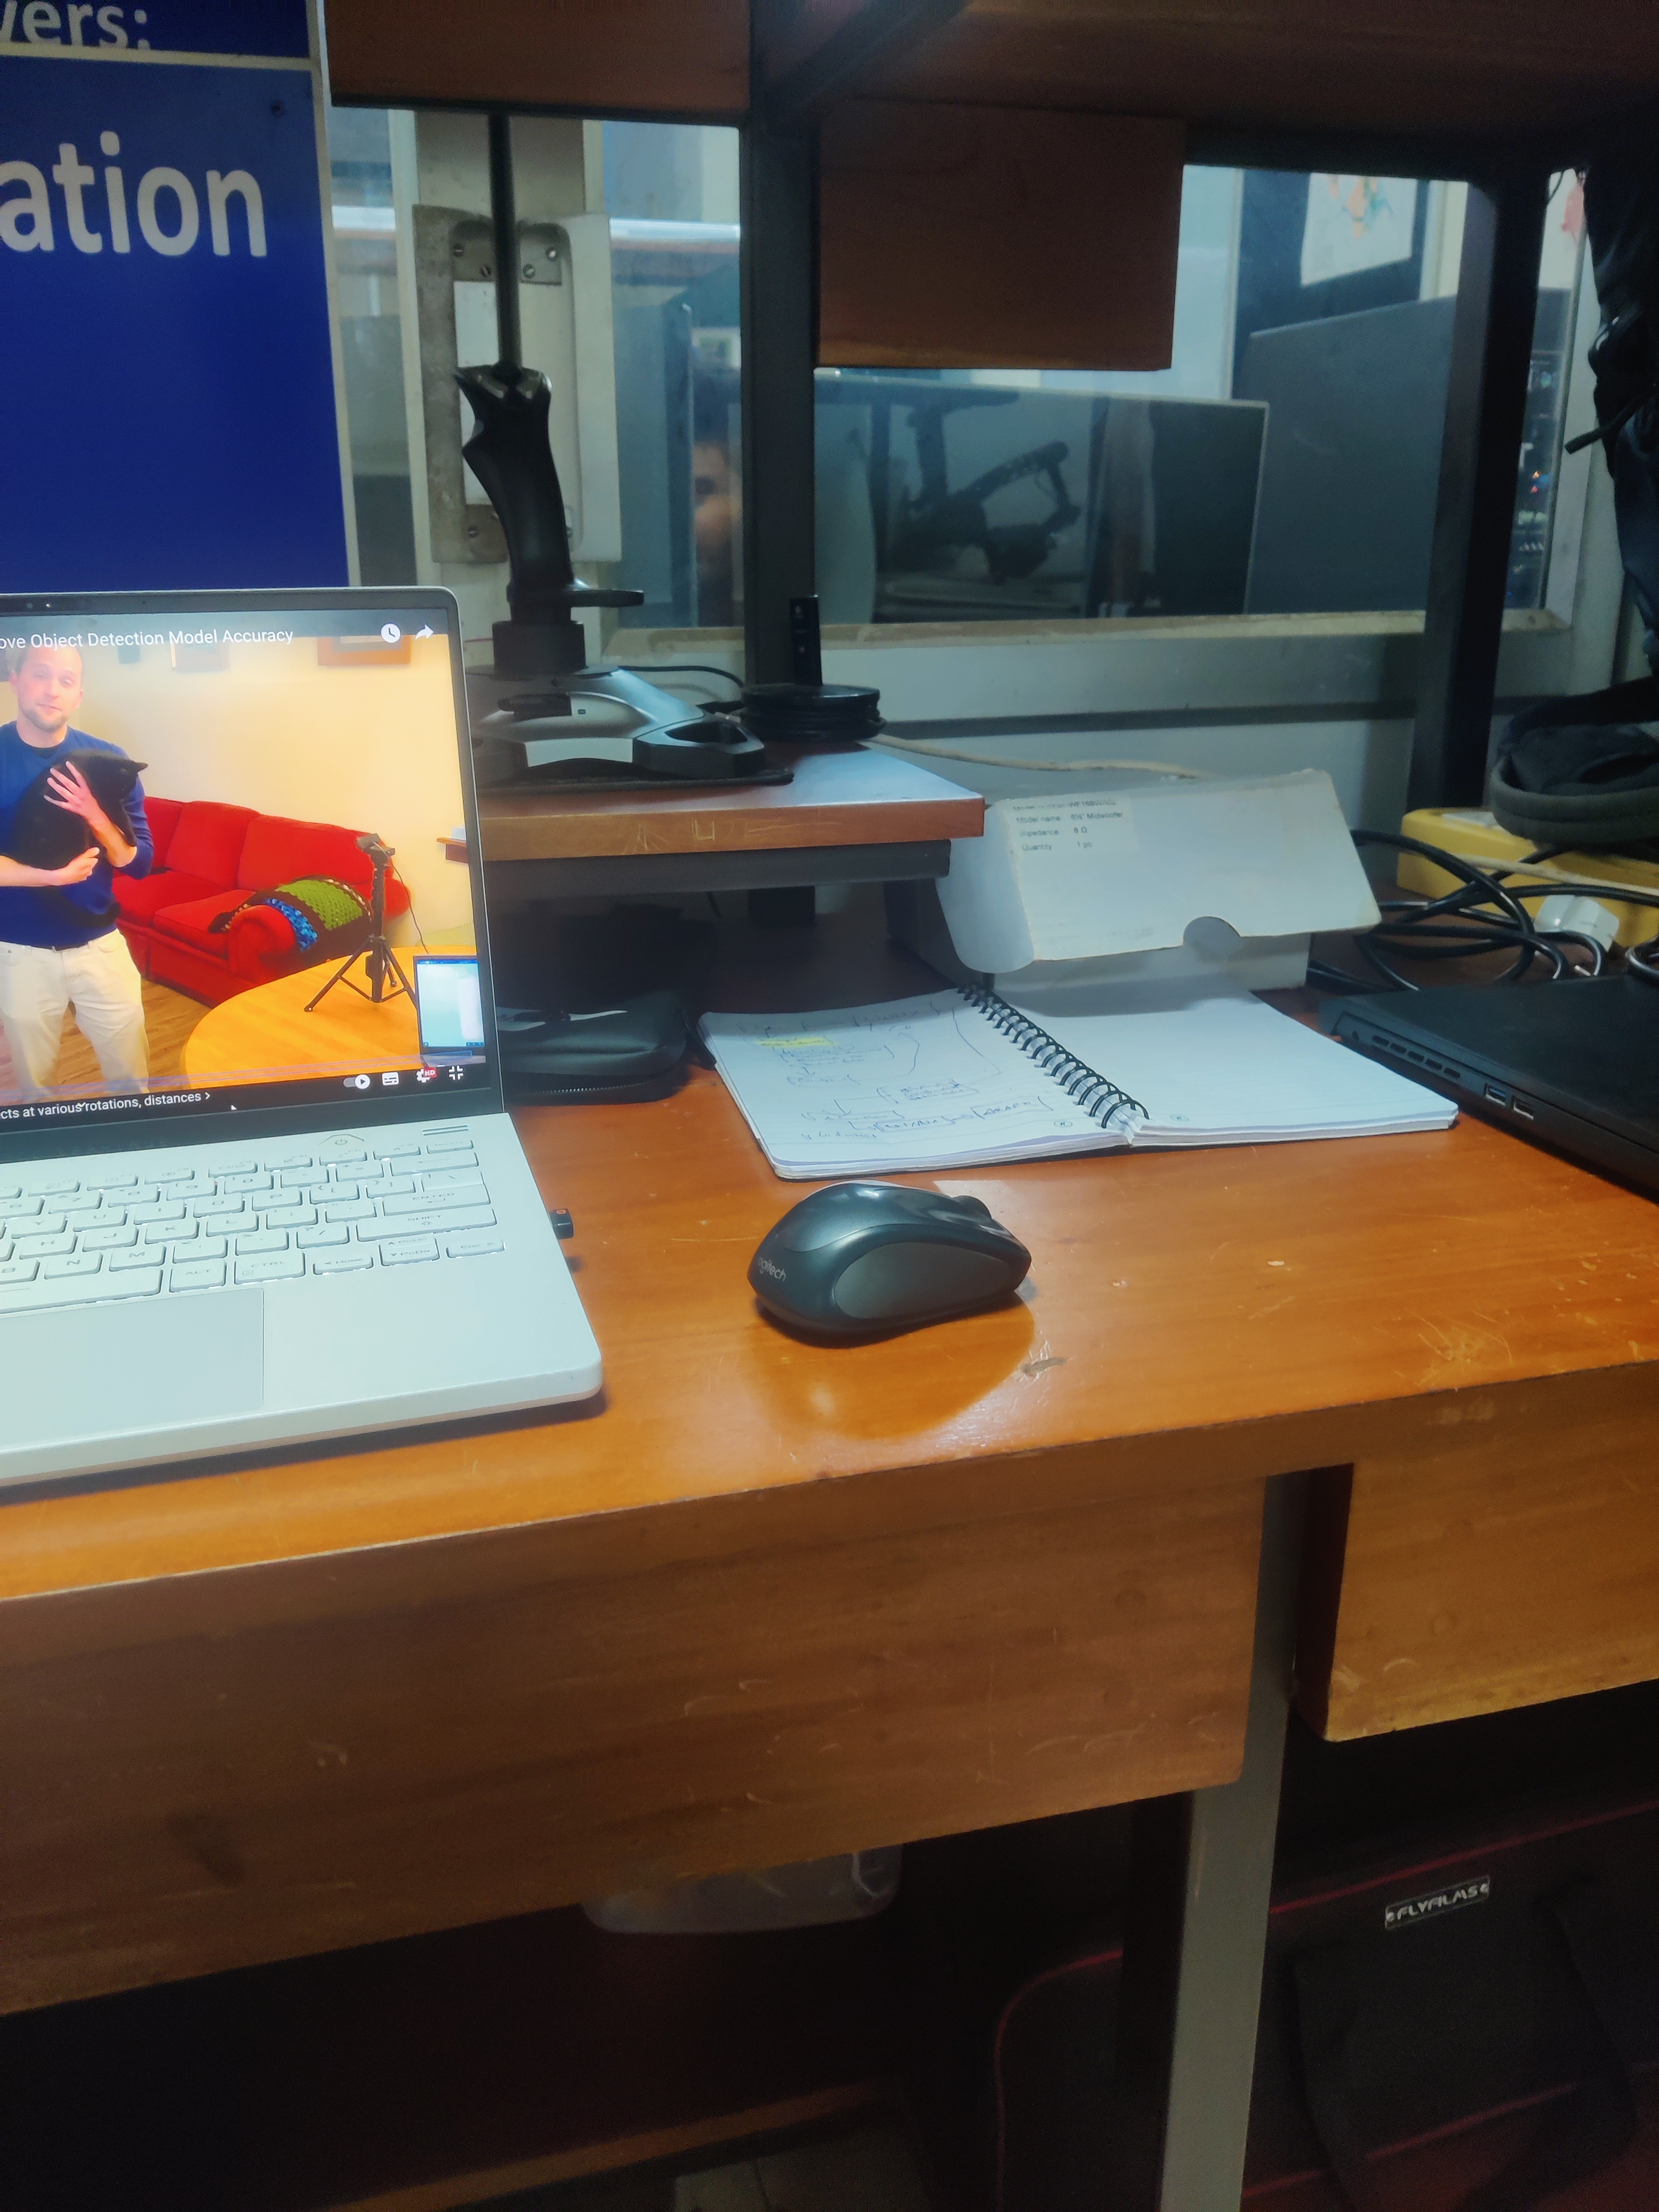logitechMouse: (742, 1170, 1042, 1352)
